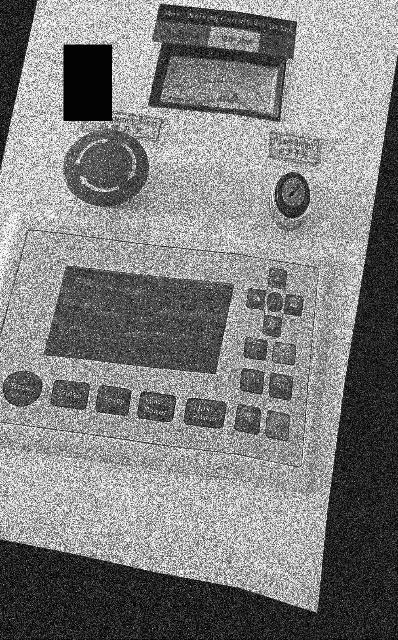Amp_Meter: (158, 53, 284, 117)
Display: (45, 267, 233, 373)
Down_button: (263, 315, 282, 337)
Emergency_Stop: (63, 129, 149, 207)
Enter_button: (272, 342, 296, 365)
Esc_button: (244, 338, 267, 360)
File_button: (235, 404, 261, 435)
Frame_button: (269, 373, 293, 401)
Left_button: (246, 288, 266, 309)
Max-Power_button: (184, 398, 226, 428)
Min-Power_button: (138, 392, 176, 422)
Origin_button: (240, 368, 263, 394)
Power_switch: (270, 172, 310, 229)
Pulse_button: (51, 380, 89, 409)
Reset_button: (3, 371, 42, 406)
Right_button: (285, 294, 303, 316)
Speed_button: (96, 385, 131, 416)
Start-Pause_button: (266, 411, 289, 440)
Up_button: (268, 268, 287, 289)
Z_U_button: (267, 292, 283, 312)
